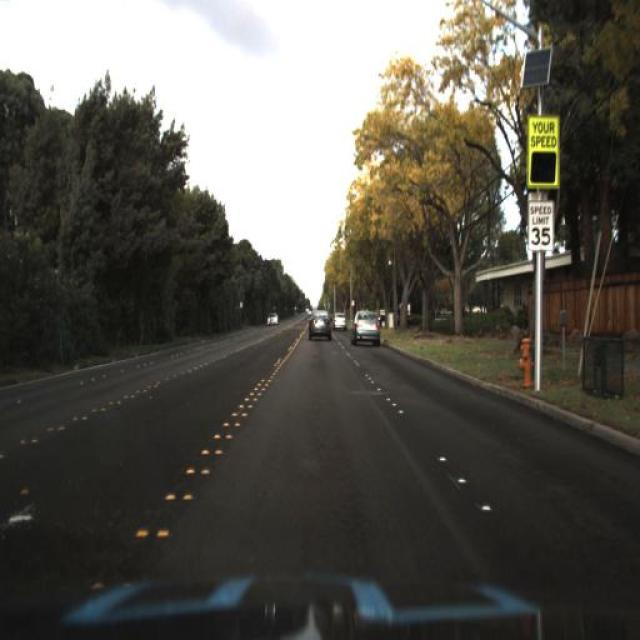car: (346, 305, 389, 357), (300, 300, 334, 348), (332, 307, 348, 332), (266, 304, 280, 332)
